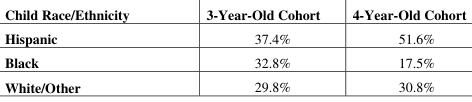table: (3, 4, 465, 96)
table column: (167, 4, 335, 96), (3, 4, 167, 96), (335, 4, 465, 96)
table column header: (3, 4, 465, 26)
table row: (3, 26, 465, 50), (3, 50, 465, 74), (3, 4, 465, 26), (3, 74, 465, 96)
